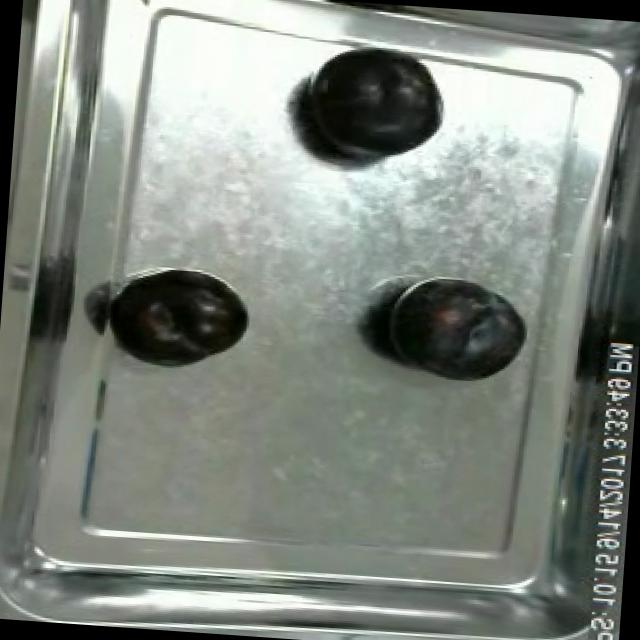Fruit: (286, 36, 451, 174), (368, 272, 539, 391), (114, 268, 255, 373)
